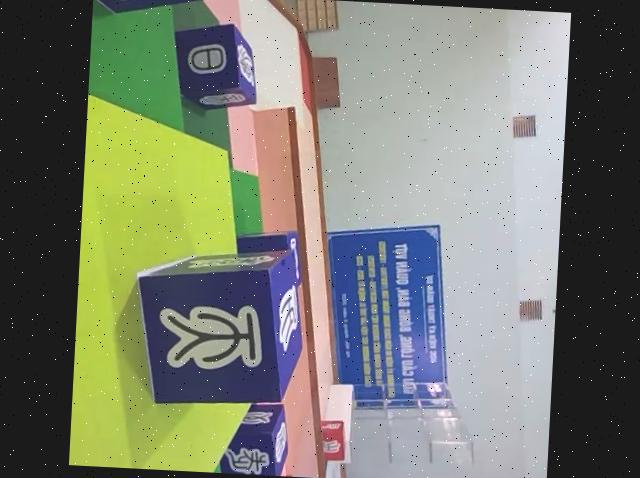R2 Fake Blue: (132, 237, 308, 409), (170, 19, 259, 111), (218, 401, 290, 477)
R2 Real Blue: (92, 0, 211, 22)
